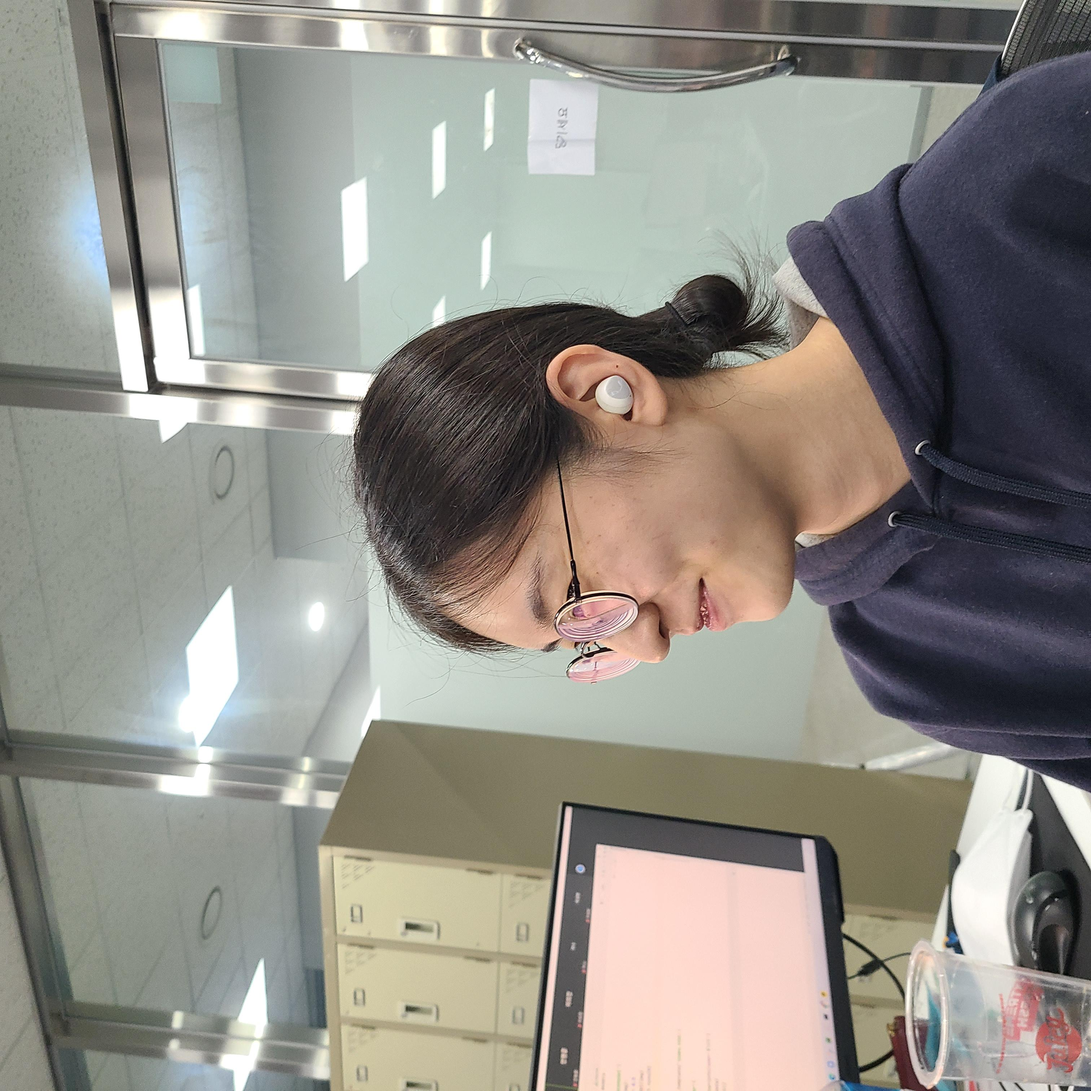earphone: (672, 587, 719, 643)
